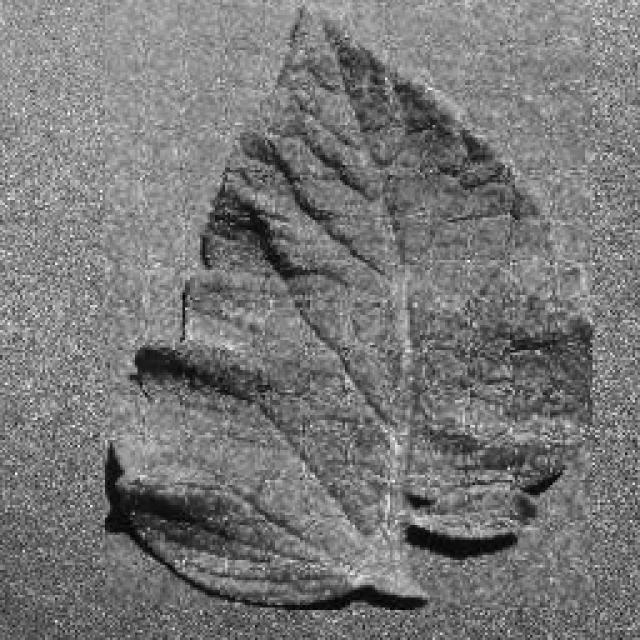Healthy: (102, 0, 592, 610)
